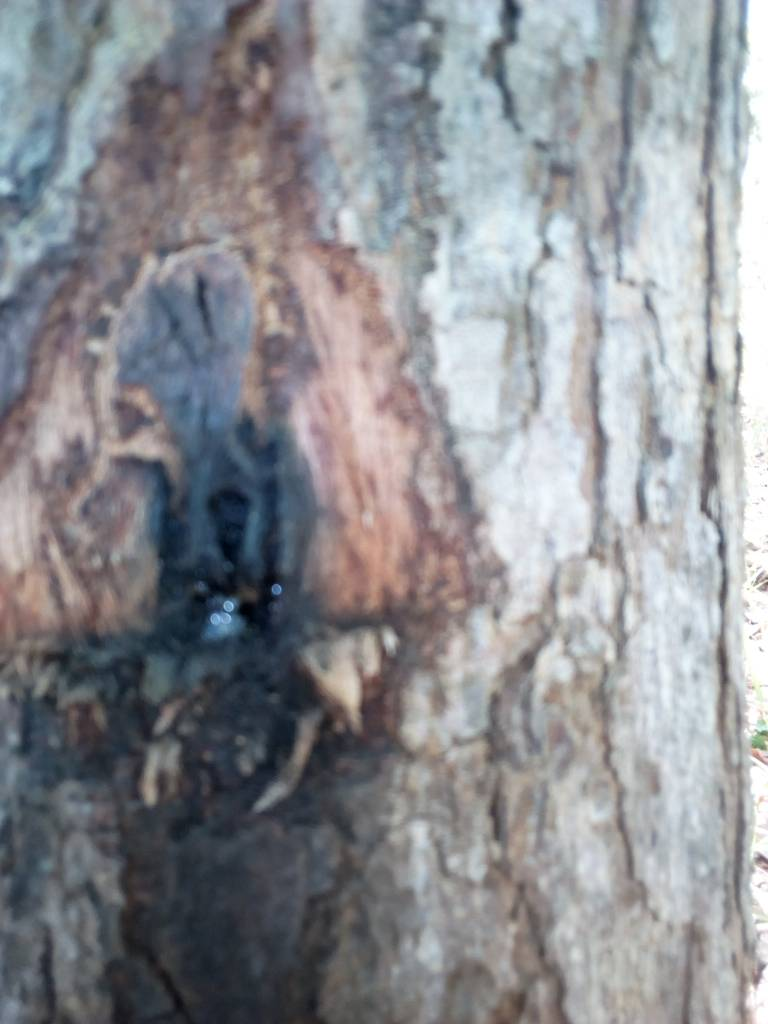Mecocorynus longiceps: (121, 399, 340, 692)
